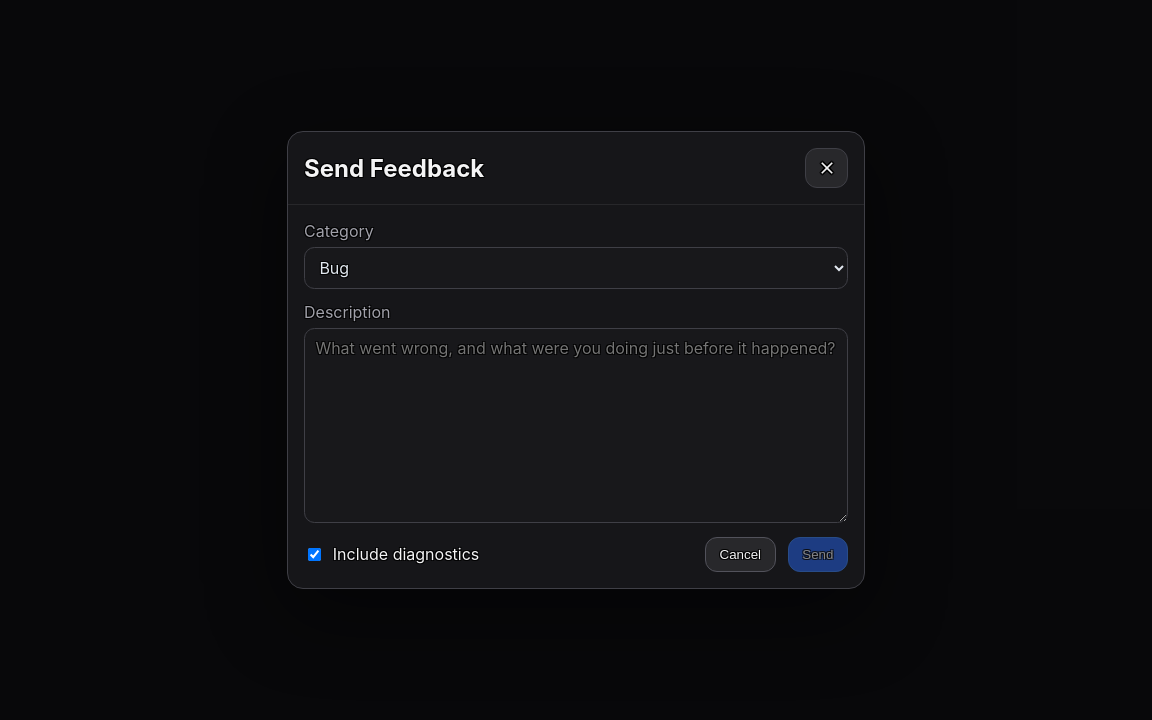
FeedbackModal › disables send until the trimmed description has at least three characters
Expected: the button "Send" is disabled, left=788, top=537, right=848, bottom=572
Replace the text in the text box labelled "Description" with "  no  " at (576, 426), box left=304, top=328, right=848, bottom=523
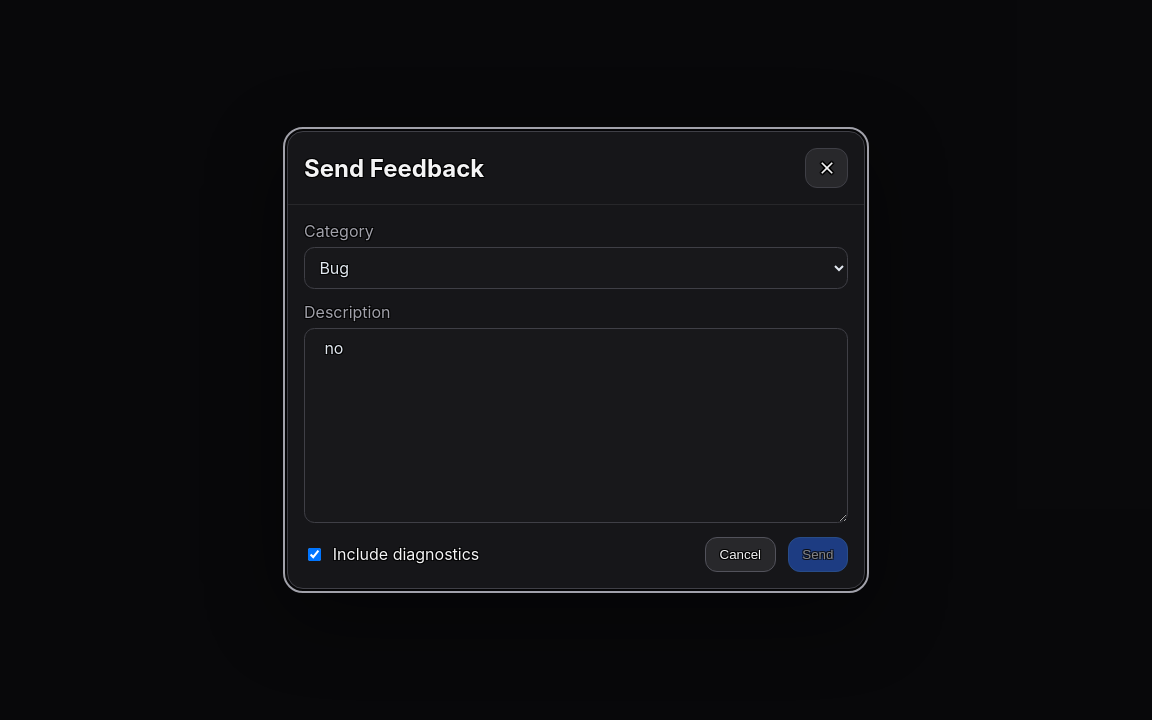
Expected: the button "Send" is disabled, left=788, top=537, right=848, bottom=572
Replace the text in the text box labelled "Description" with "  yes  " at (576, 426), box left=304, top=328, right=848, bottom=523
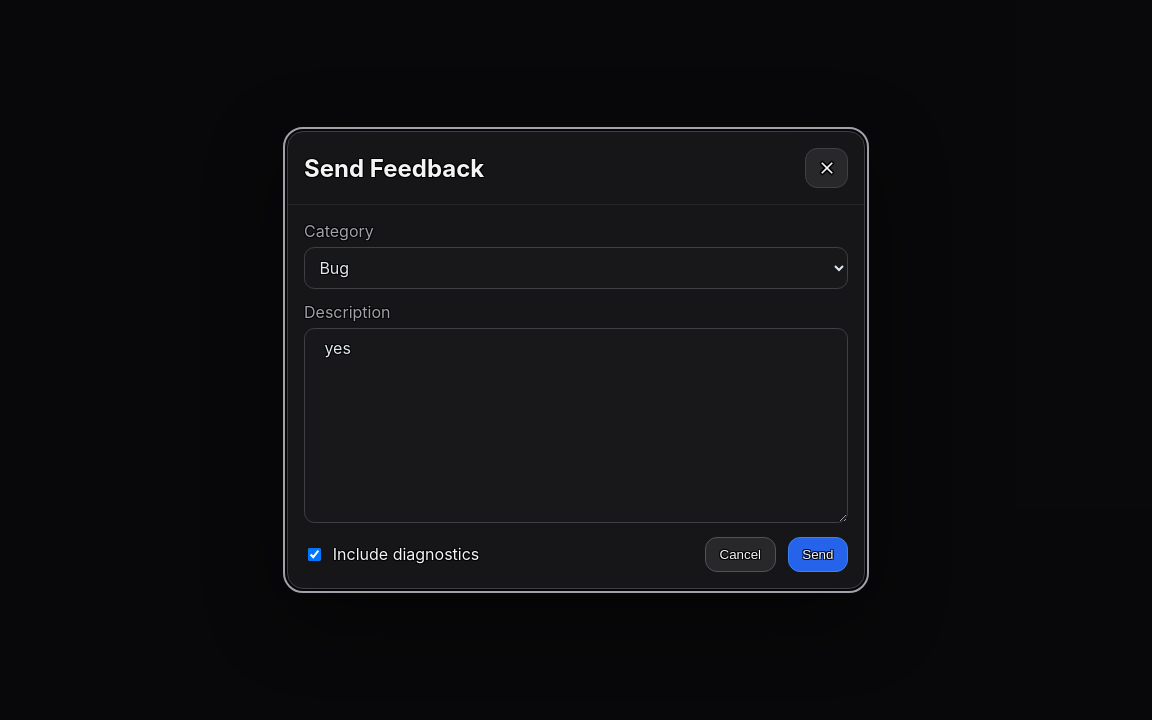
Expected: the button "Send" is enabled, left=788, top=537, right=848, bottom=572
